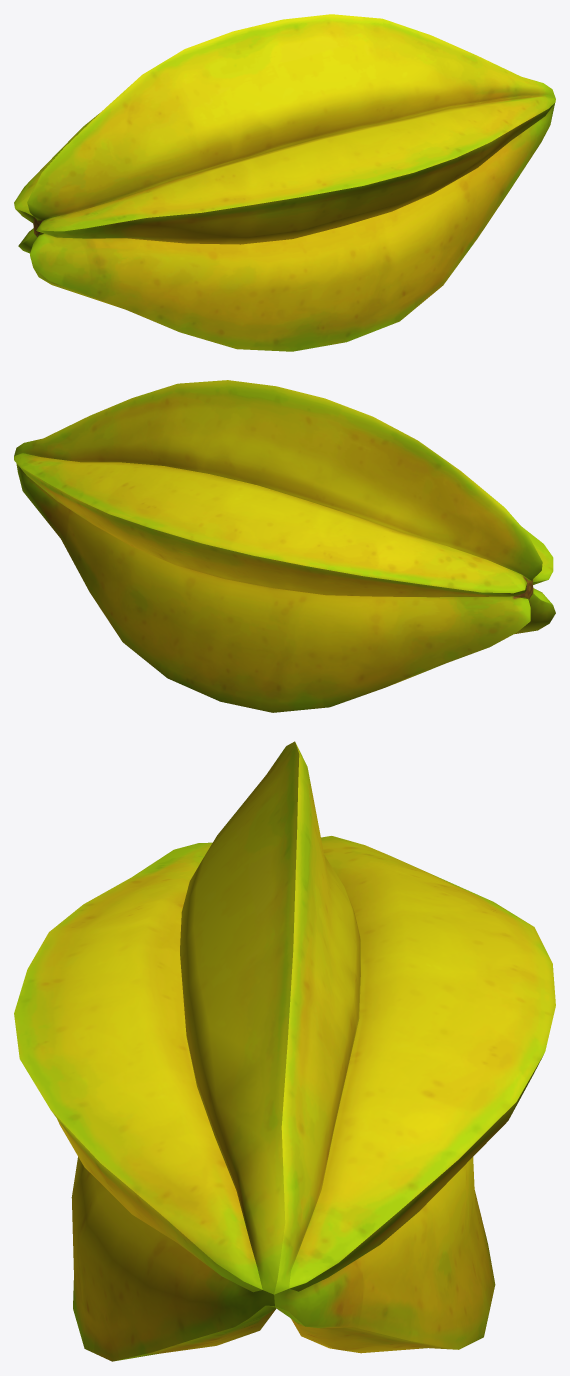
Rendered from SM_StarFruit.fbx.
3 views of the same model, one above another, from view 1: azimuth 30°, elevation 25°; view 2: azimuth 150°, elevation 25°; view 3: azimuth 270°, elevation 25° (orthographic). The views are drawn at different scales.
Parts seen in each view (by area): view 1: SM_StarFruit; view 2: SM_StarFruit; view 3: SM_StarFruit.
Part boxes in pixels (x1,y1,x2,y2): SM_StarFruit: (14,14,555,351); SM_StarFruit: (14,380,555,712); SM_StarFruit: (14,741,555,1361).
Size of the model in its own units: 22.62 by 11.24 by 11.44.
